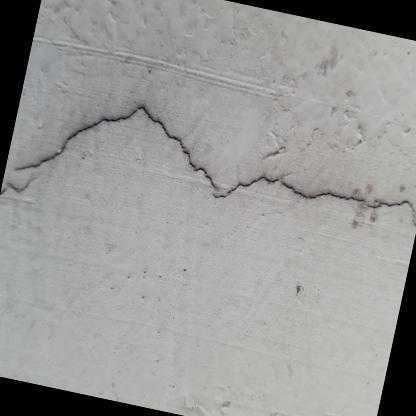crack: (0, 103, 416, 229)
